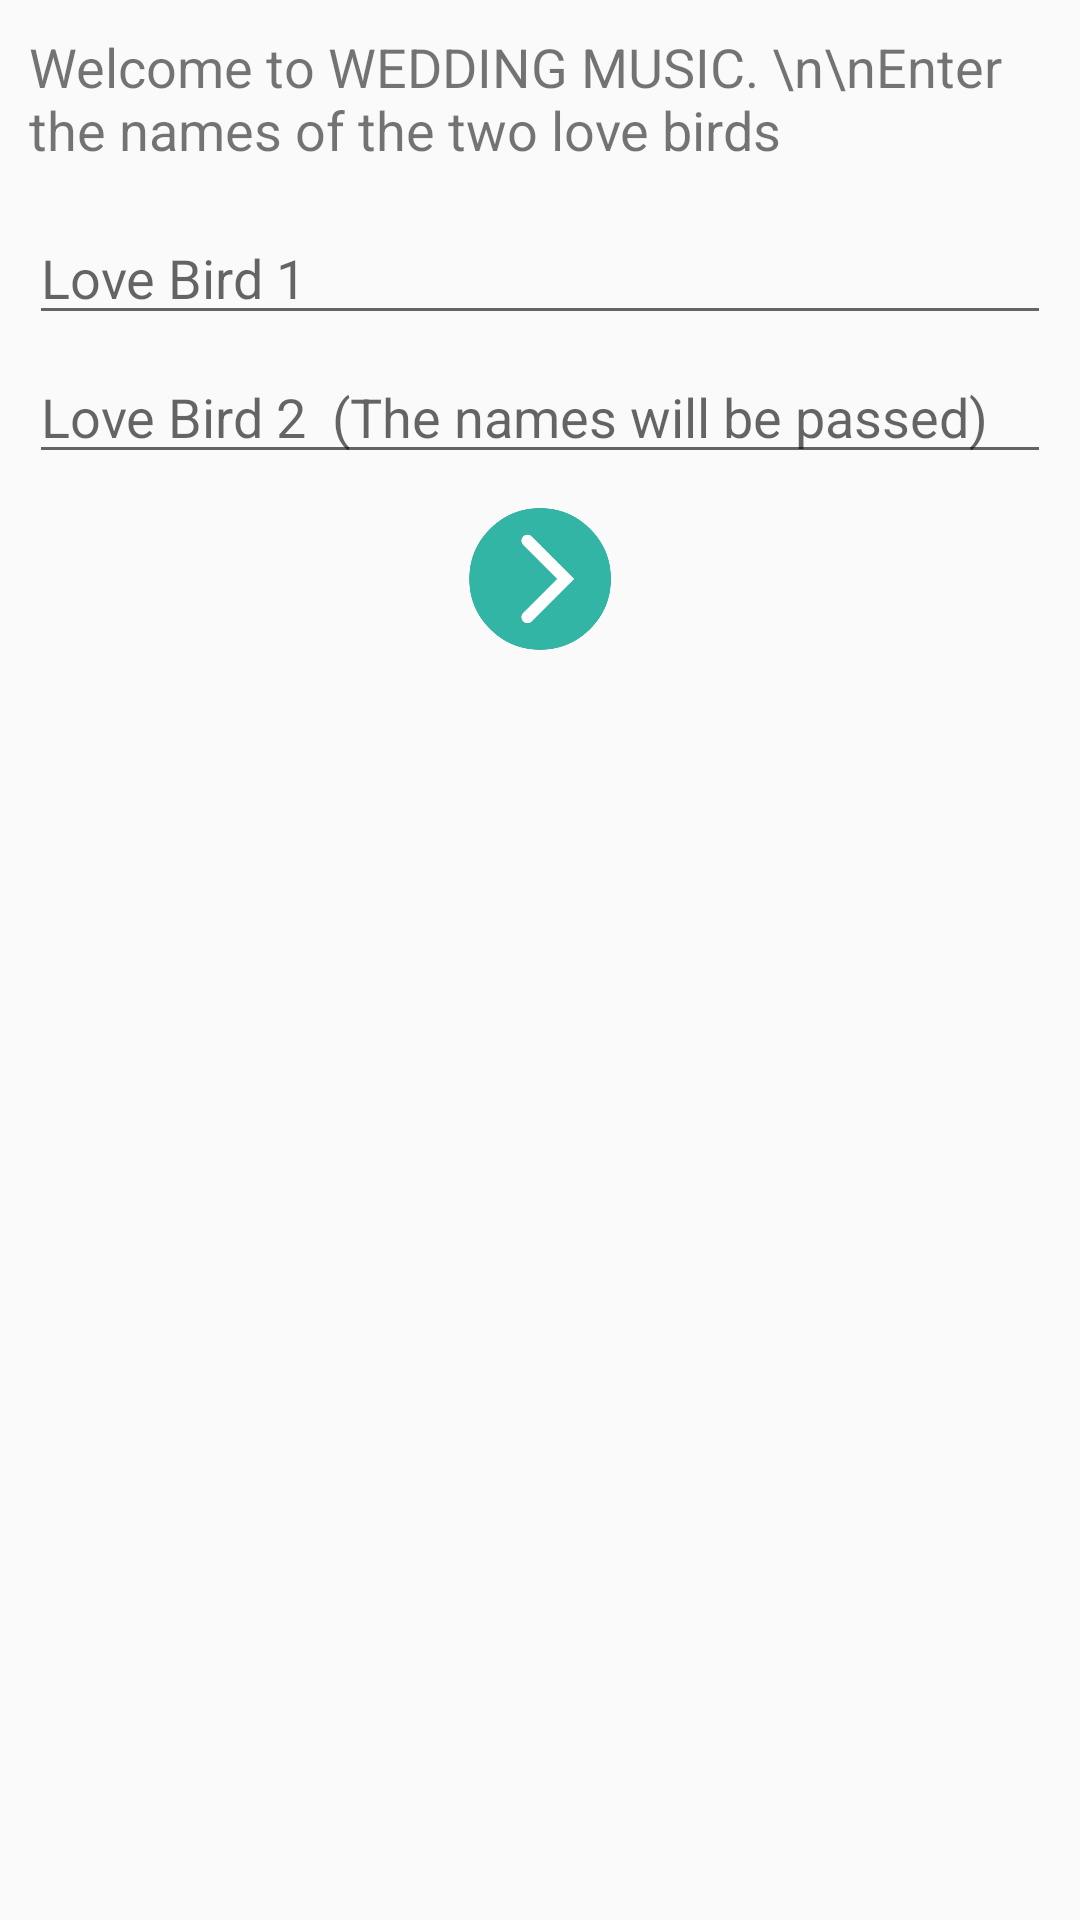

Locate icon controls on the screen. Image size 1080px x 1920px, boxes as (x1, y1, x2, y2).
next: (469, 508, 611, 650)
